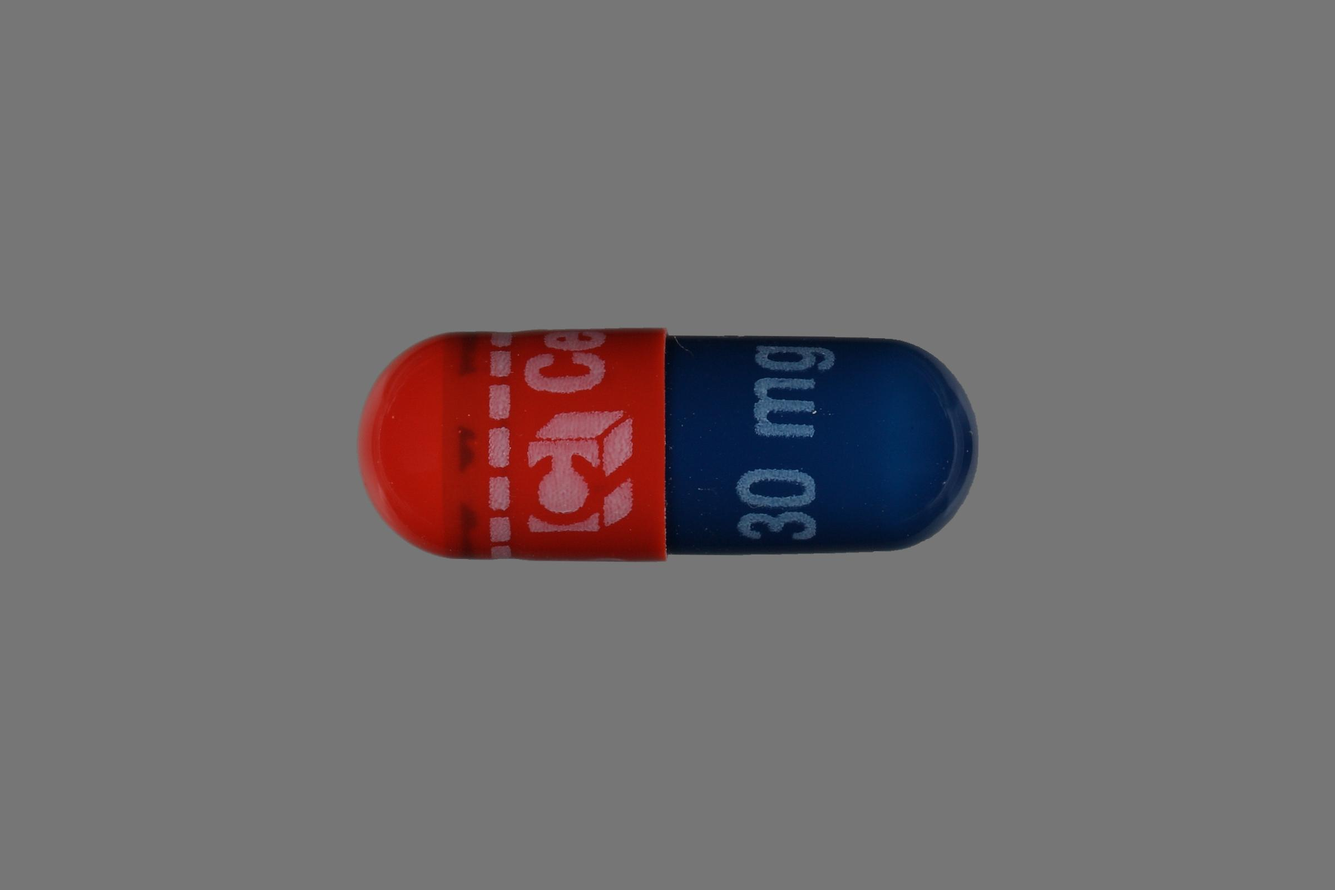Pill: (343, 305, 1007, 585)
